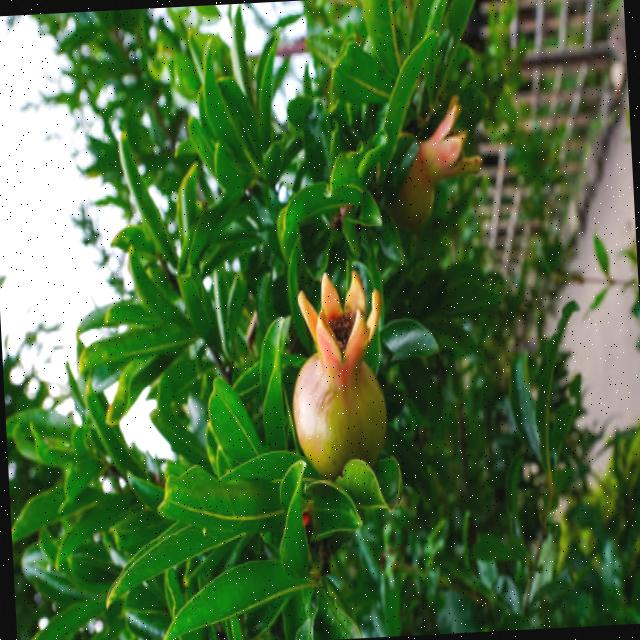Unripe: (280, 266, 389, 475)
